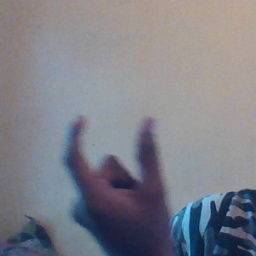U: (59, 103, 174, 246)
